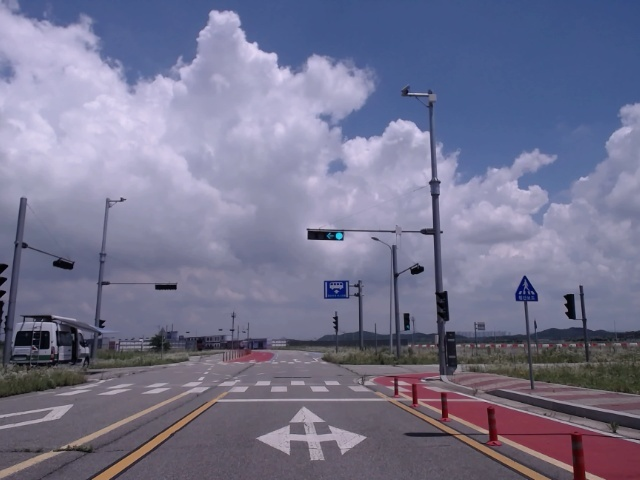all_green_4: (308, 227, 344, 239)
